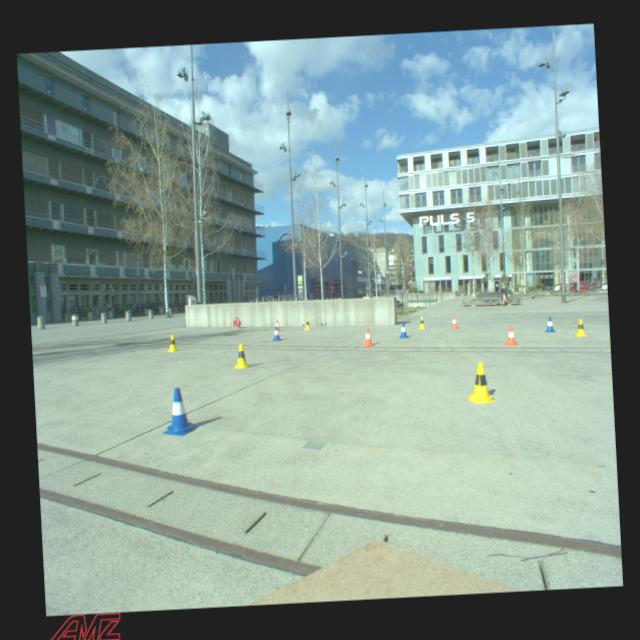blue_cone: (160, 386, 198, 436), (544, 316, 556, 332), (398, 322, 408, 338), (272, 326, 281, 342)
orange_cone: (502, 326, 518, 346), (362, 328, 375, 347), (450, 316, 459, 329), (274, 319, 281, 332)
yellow_cone: (466, 362, 496, 404), (233, 343, 250, 369), (574, 319, 588, 337), (168, 334, 178, 352), (418, 316, 426, 329), (304, 318, 311, 330)
